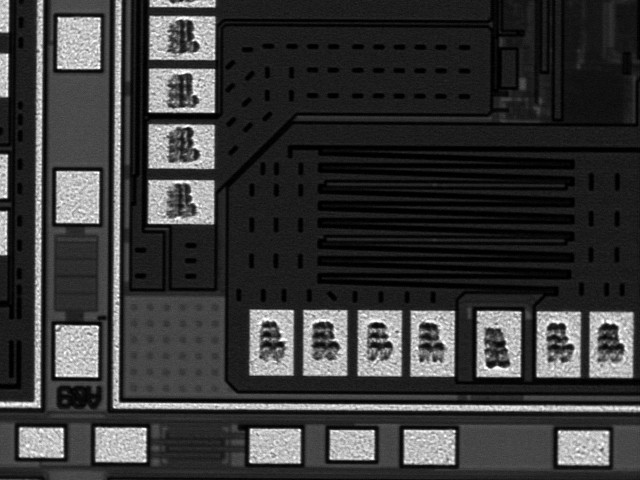over: (469, 305, 528, 384), (529, 305, 584, 384), (141, 11, 222, 64), (351, 305, 406, 383), (406, 304, 460, 383), (584, 306, 639, 383), (298, 305, 352, 382), (142, 120, 219, 173), (141, 178, 220, 228), (141, 65, 220, 115), (246, 306, 298, 381)
